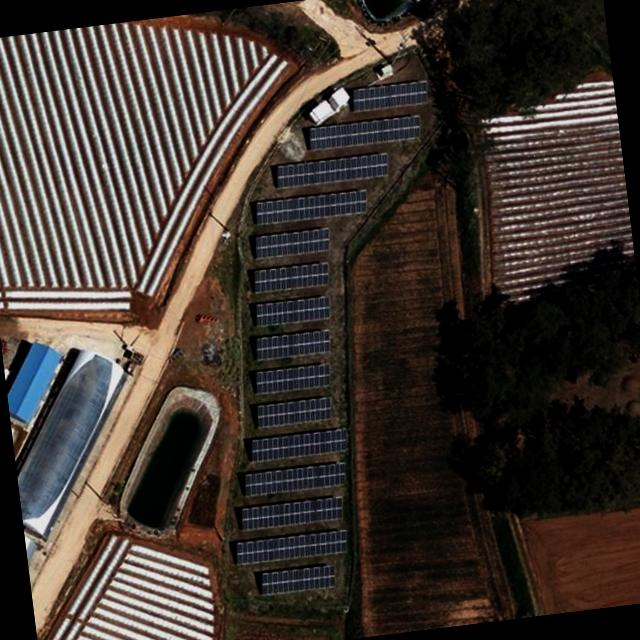solar: (248, 185, 370, 228), (302, 112, 425, 154), (270, 149, 393, 191), (230, 526, 351, 568), (238, 458, 349, 501), (235, 492, 346, 534), (244, 424, 350, 466), (344, 76, 434, 116), (253, 560, 339, 601), (247, 258, 333, 296), (246, 326, 334, 363), (248, 359, 332, 397), (248, 292, 335, 328), (252, 393, 334, 431), (248, 224, 332, 261)
